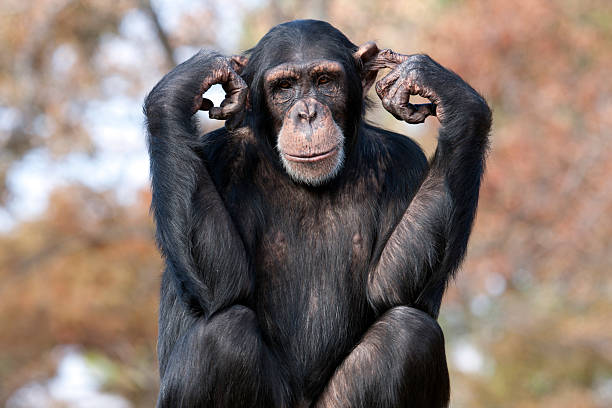chimpanzee: (213, 10, 394, 216)
